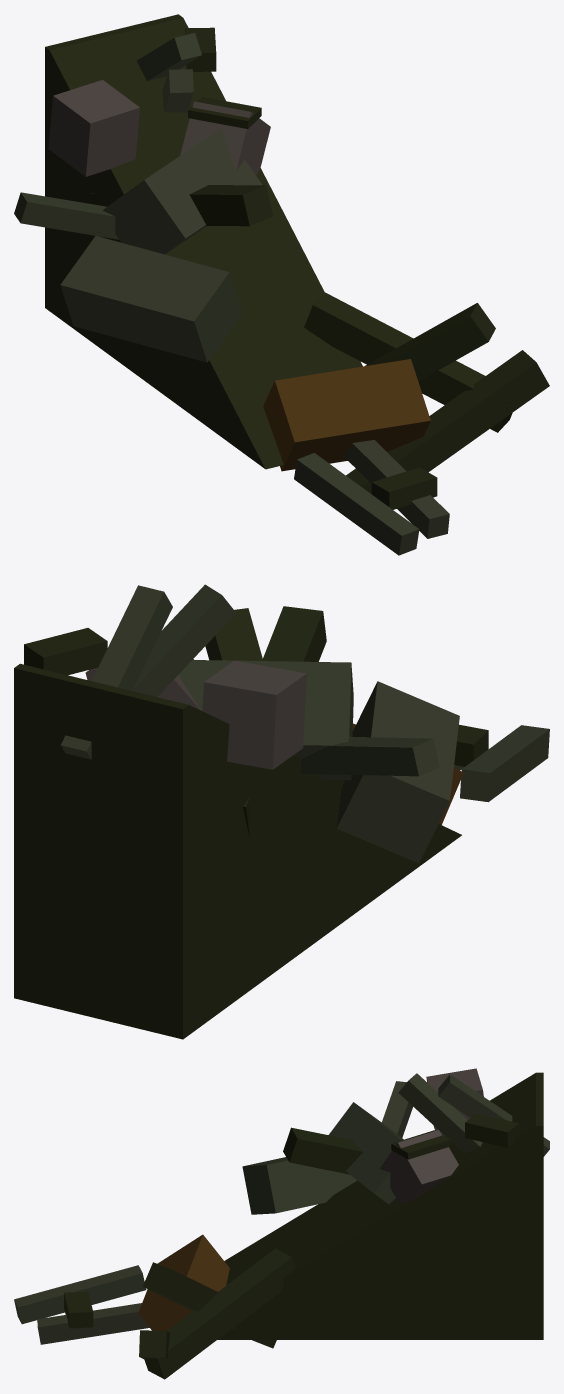
Rendered from SM_PilaZombi_Altura1_s0_LOD0.fbx.
The picture shows the model from 3 angles, top to bottom: view 1: azimuth 30°, elevation 25°; view 2: azimuth 150°, elevation 25°; view 3: azimuth 270°, elevation 25°; orthographic projection. The views are drawn at different scales.
Visible parts, largest first — view 1: SM_pila_zombis_v0_LOD0; view 2: SM_pila_zombis_v0_LOD0; view 3: SM_pila_zombis_v0_LOD0.
Boxes of the visible parts, <box> form: SM_pila_zombis_v0_LOD0: <box>14,14,549,555</box>; SM_pila_zombis_v0_LOD0: <box>14,584,549,1039</box>; SM_pila_zombis_v0_LOD0: <box>14,1068,549,1379</box>.
Bounding box in the file's own units: 1.45 × 1.3 × 2.2.
